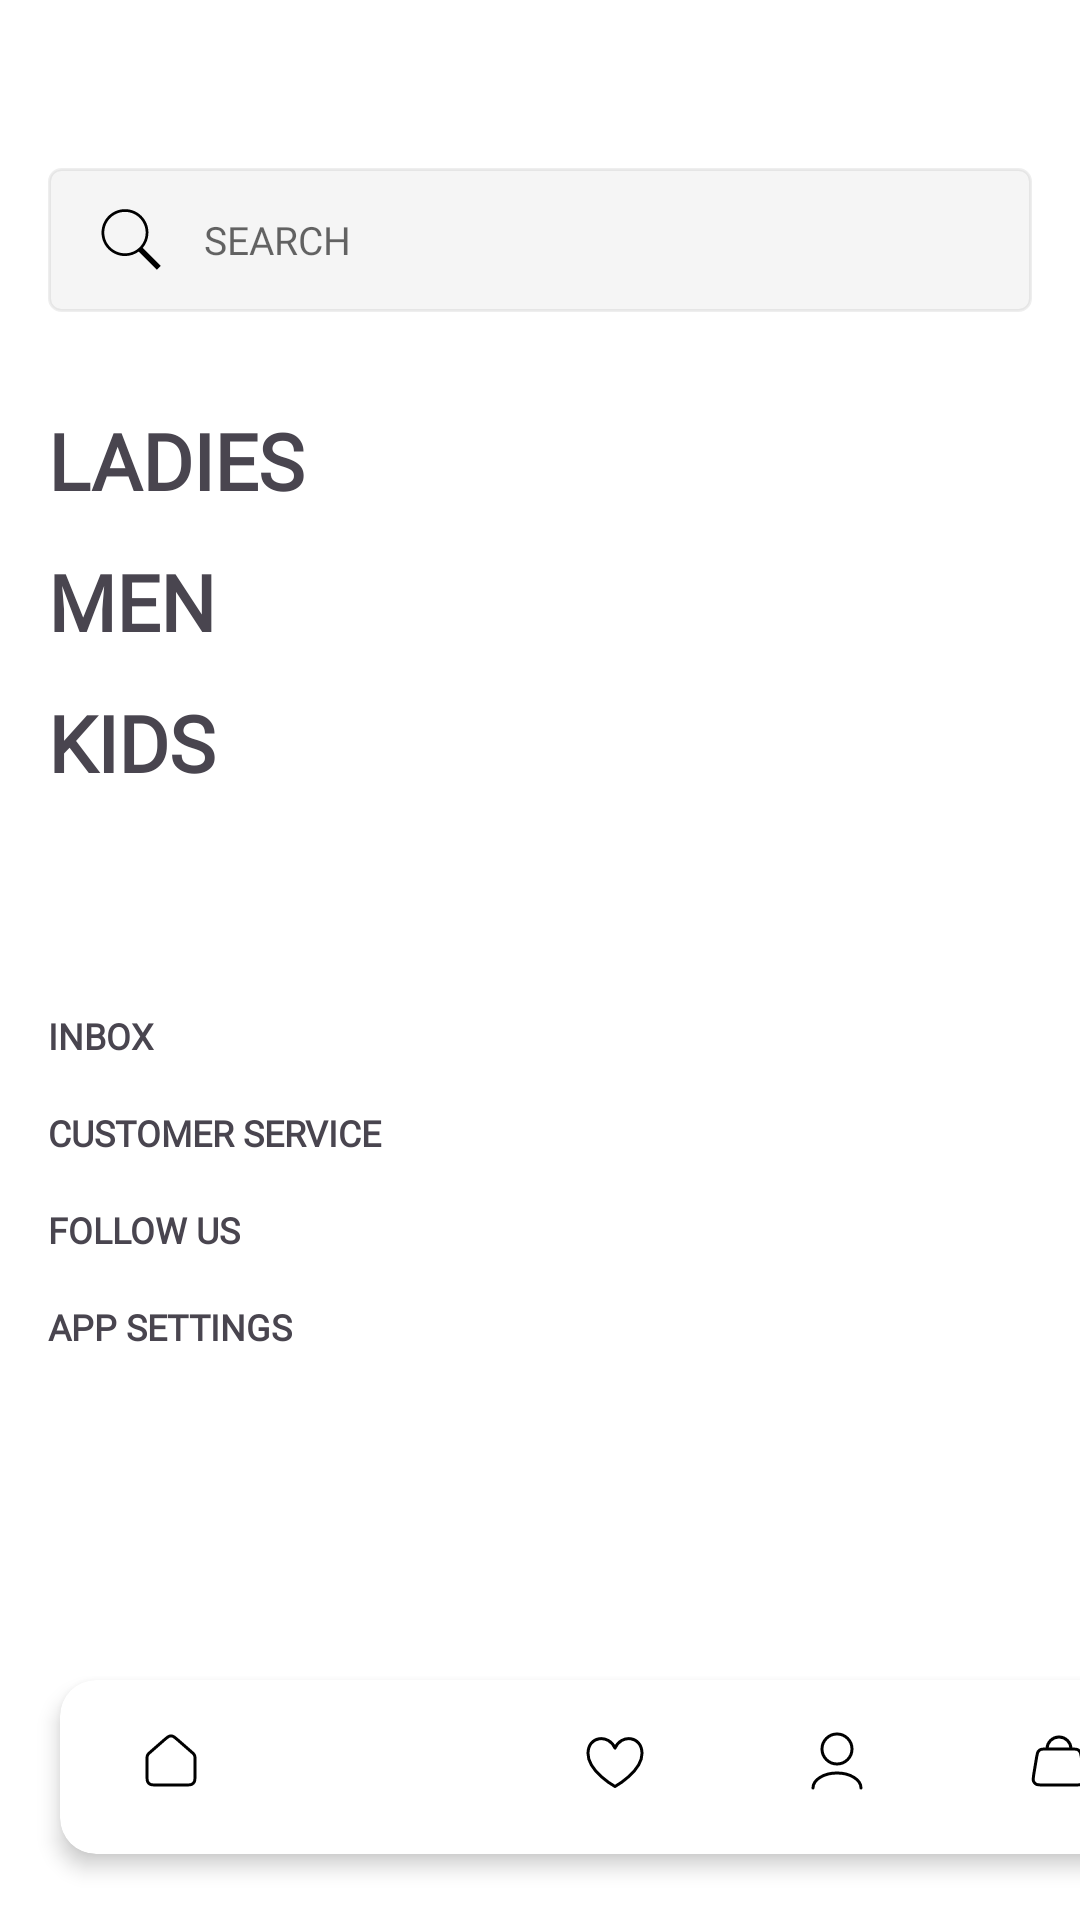

Screen size 1080 × 1920. Icon name, then its center in pixels as (x=x, y=y):
heart: (x=615, y=1762)
house 02deactive: (x=171, y=1760)
user: (x=837, y=1761)
